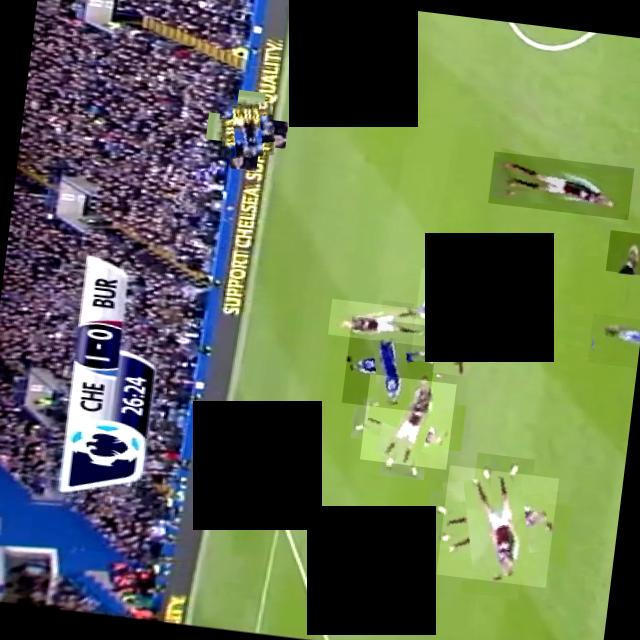referee: (215, 97, 279, 161), (605, 228, 640, 274)
soccer-player: (436, 464, 559, 586), (488, 150, 634, 219), (341, 315, 438, 412), (359, 372, 456, 468), (410, 266, 504, 362), (320, 31, 398, 111), (328, 297, 432, 345), (587, 312, 640, 367)
